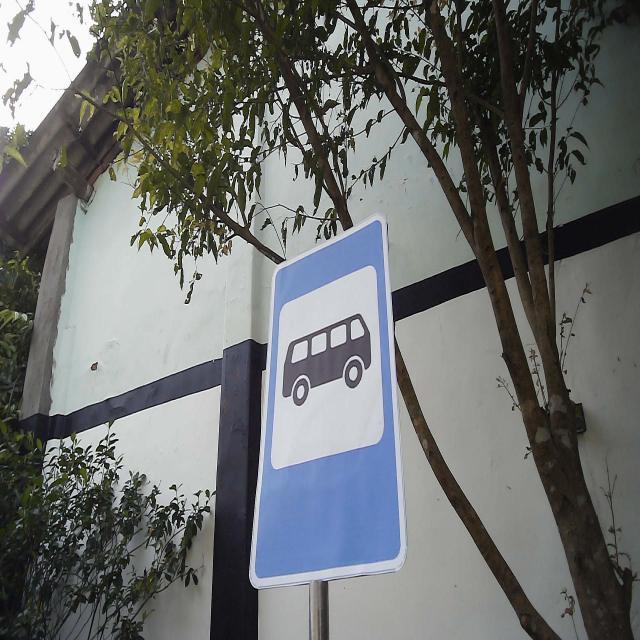bus_stop: (247, 212, 410, 592)
